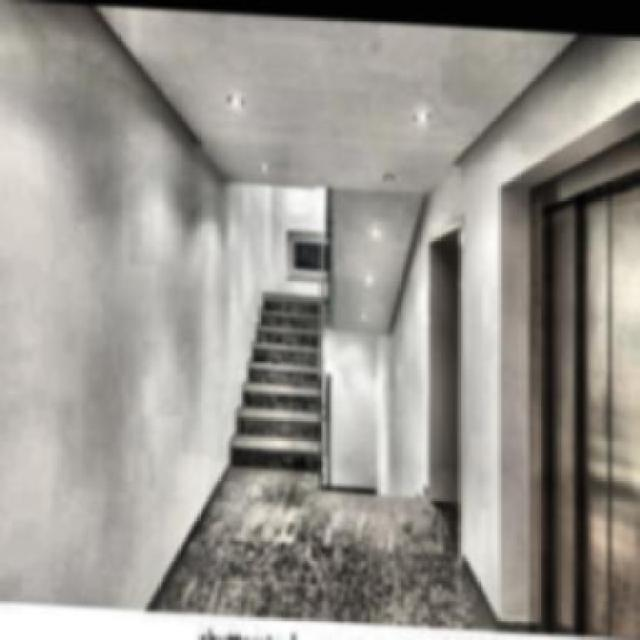stair: (224, 272, 324, 470)
